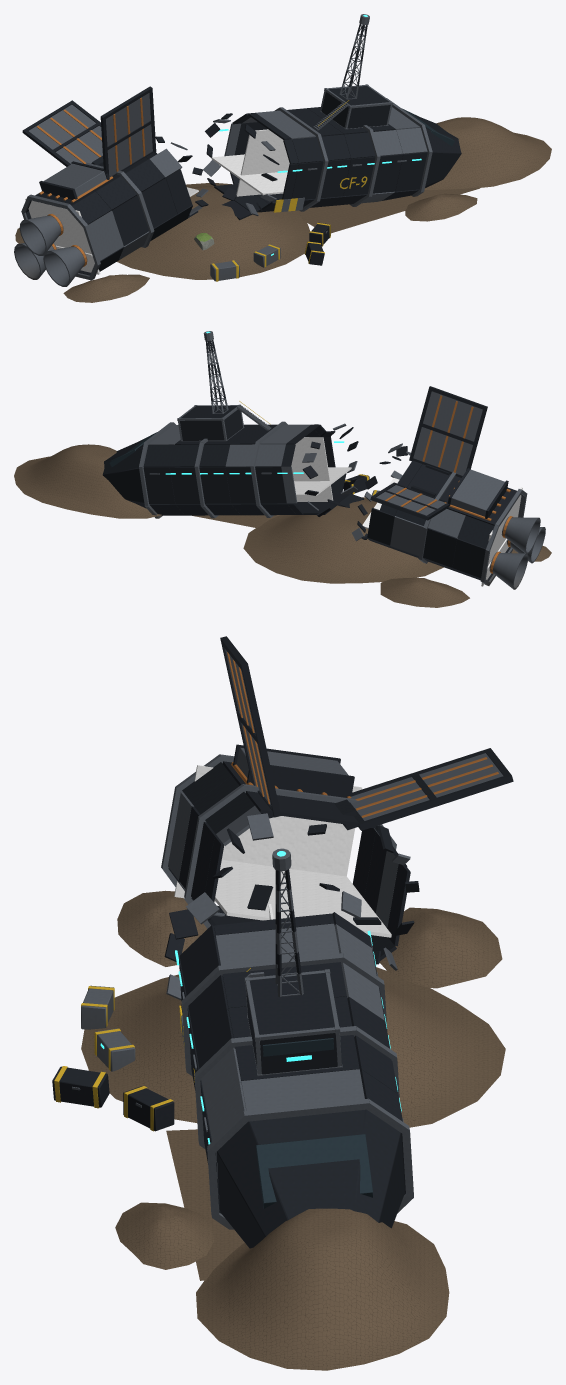
The model's file is landmark_freighter_wreck.glb.
3 renders of one model, top to bottom at view 1: azimuth 30°, elevation 25°; view 2: azimuth 150°, elevation 25°; view 3: azimuth 270°, elevation 25°, orthographic. The views are drawn at different scales.
Visible parts, largest first — view 1: landmark_freighter_wreck; view 2: landmark_freighter_wreck; view 3: landmark_freighter_wreck.
Boxes of the visible parts, left/top/right/bottom form: landmark_freighter_wreck: left=14, top=14, right=551, bottom=302; landmark_freighter_wreck: left=14, top=331, right=551, bottom=607; landmark_freighter_wreck: left=52, top=636, right=513, bottom=1370.
Size of what is drawn, in the model's own units: 137 by 46.94 by 54.44.
Materials: 12 (10 with a texture image).
